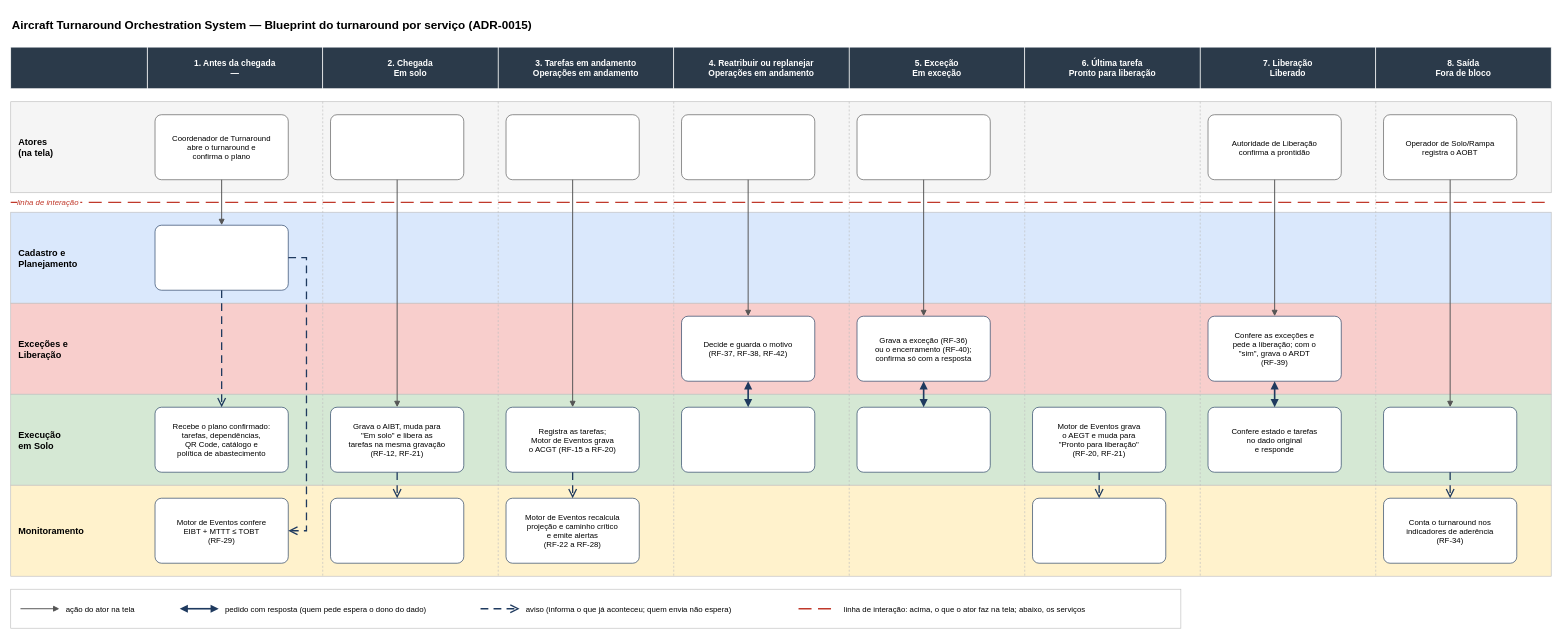
Some shapes in this 1562 by 639 pixel diagram are drawn without their labels. The centre of each missing label's shape, as x and y in pixels:
Aplica "Em exceção" ou a saída dele, um pedido de cada vez: pixel 923 439
Coordenador de Turnaround abre ou encerra a exceção: pixel 923 147
Coordenador de Turnaround reatribui ou replaneja: pixel 748 147
Grava o AOBT, muda para "Fora de bloco" e bloqueia novos registros (RF-44): pixel 1450 439
Grava o turnaround e o plano inicial (RF-3, RF-5): pixel 221 257
Momento Estado do turnaround: pixel 78 67
Operador de Solo/Rampa registra início, pausa e conclusão: pixel 572 147
Operador de Solo/Rampa registra o AIBT: pixel 397 147
Recebe a chegada (projeções e painel): pixel 397 530
Recebe o fim do atendimento em solo: pixel 1099 530
Única dona da tarefa: aplica a mudança e responde: pixel 748 439
